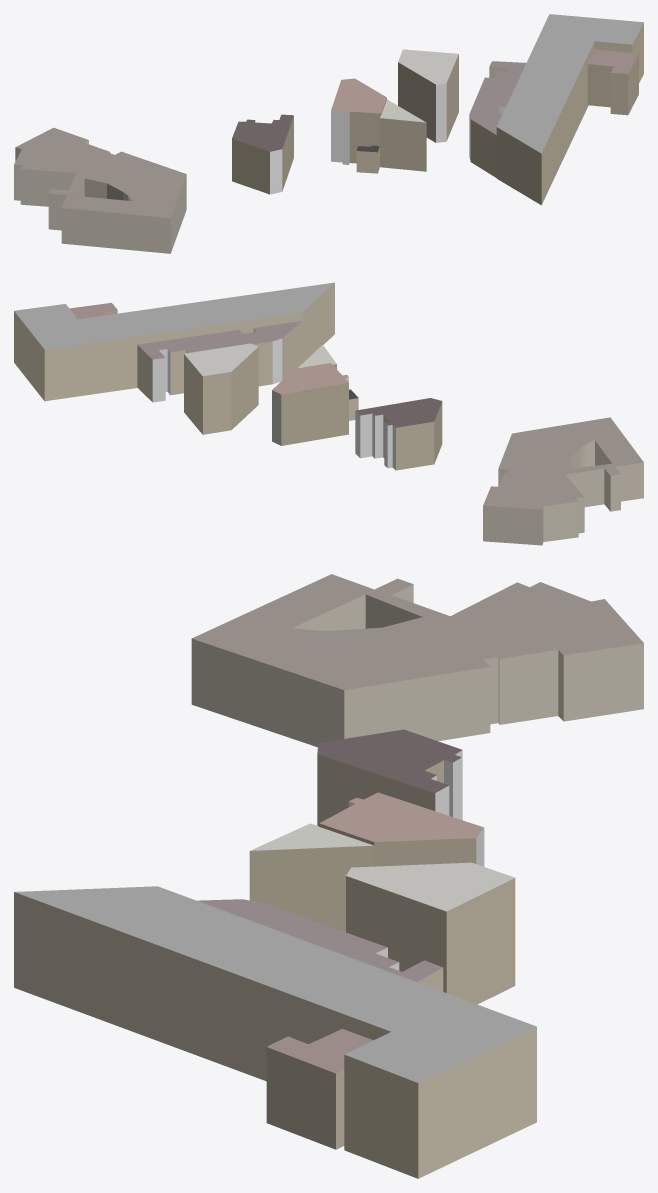
The picture shows the model from 3 angles, top to bottom: view 1: azimuth 30°, elevation 25°; view 2: azimuth 150°, elevation 25°; view 3: azimuth 270°, elevation 25°; orthographic projection. The views are drawn at different scales.
Visible parts, largest first — view 1: tuile; view 2: tuile; view 3: tuile.
Boxes of the visible parts, x1=… form: tuile: x1=14, y1=14, x2=643, y2=253; tuile: x1=14, y1=282, x2=643, y2=545; tuile: x1=14, y1=574, x2=643, y2=1178.
Bounding box in the file's own units: 145 × 14.32 × 70.6.
